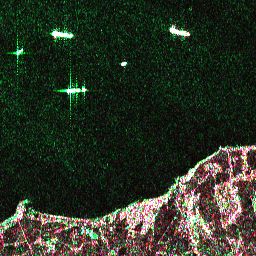ship: (49, 27, 75, 41), (167, 24, 191, 38), (63, 85, 88, 95), (14, 46, 25, 57), (118, 60, 128, 67)
